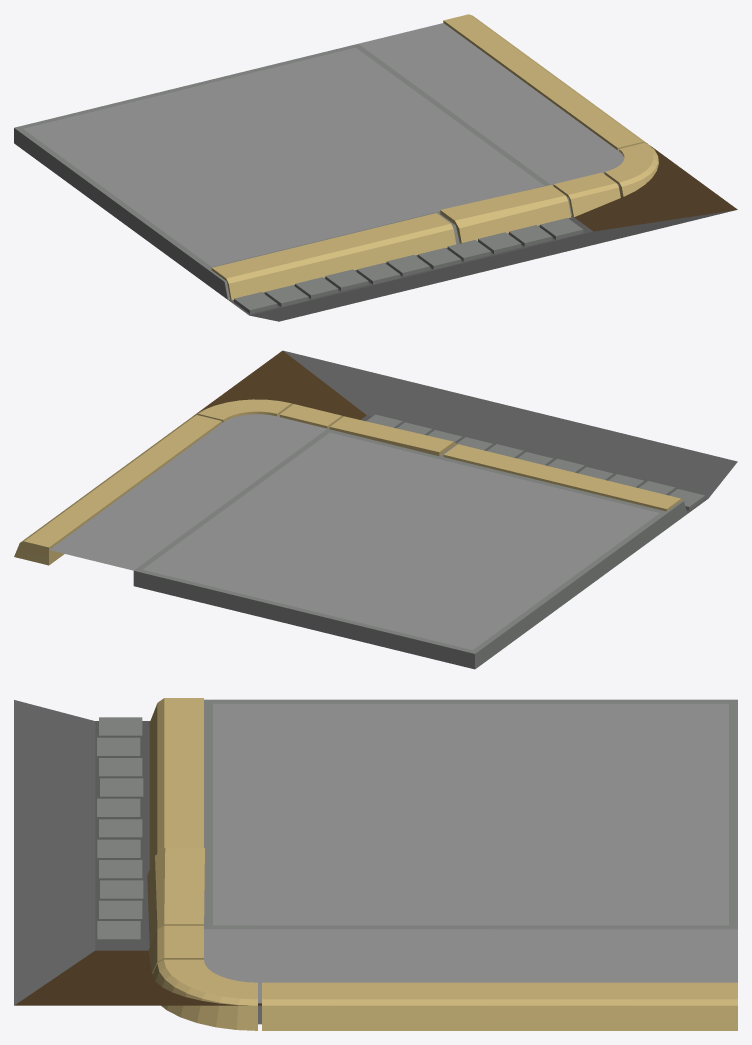
The model's file is SM_sidewalk_01_driveInDirt.glb.
The picture shows the model from 3 angles, top to bottom: view 1: azimuth 30°, elevation 25°; view 2: azimuth 150°, elevation 25°; view 3: azimuth 270°, elevation 25°; orthographic projection. The views are drawn at different scales.
Parts seen in each view (by area): view 1: SM_sidewalk_01_driveInDirt; view 2: SM_sidewalk_01_driveInDirt; view 3: SM_sidewalk_01_driveInDirt.
Part boxes in pixels (box(x1,y1,x2,y2)): SM_sidewalk_01_driveInDirt: box(14, 14, 737, 321); SM_sidewalk_01_driveInDirt: box(14, 350, 737, 669); SM_sidewalk_01_driveInDirt: box(14, 698, 737, 1030).
Bounding box in the file's own units: 4.05 × 0.1651 × 4.
Materials: 1 (1 with a texture image).
